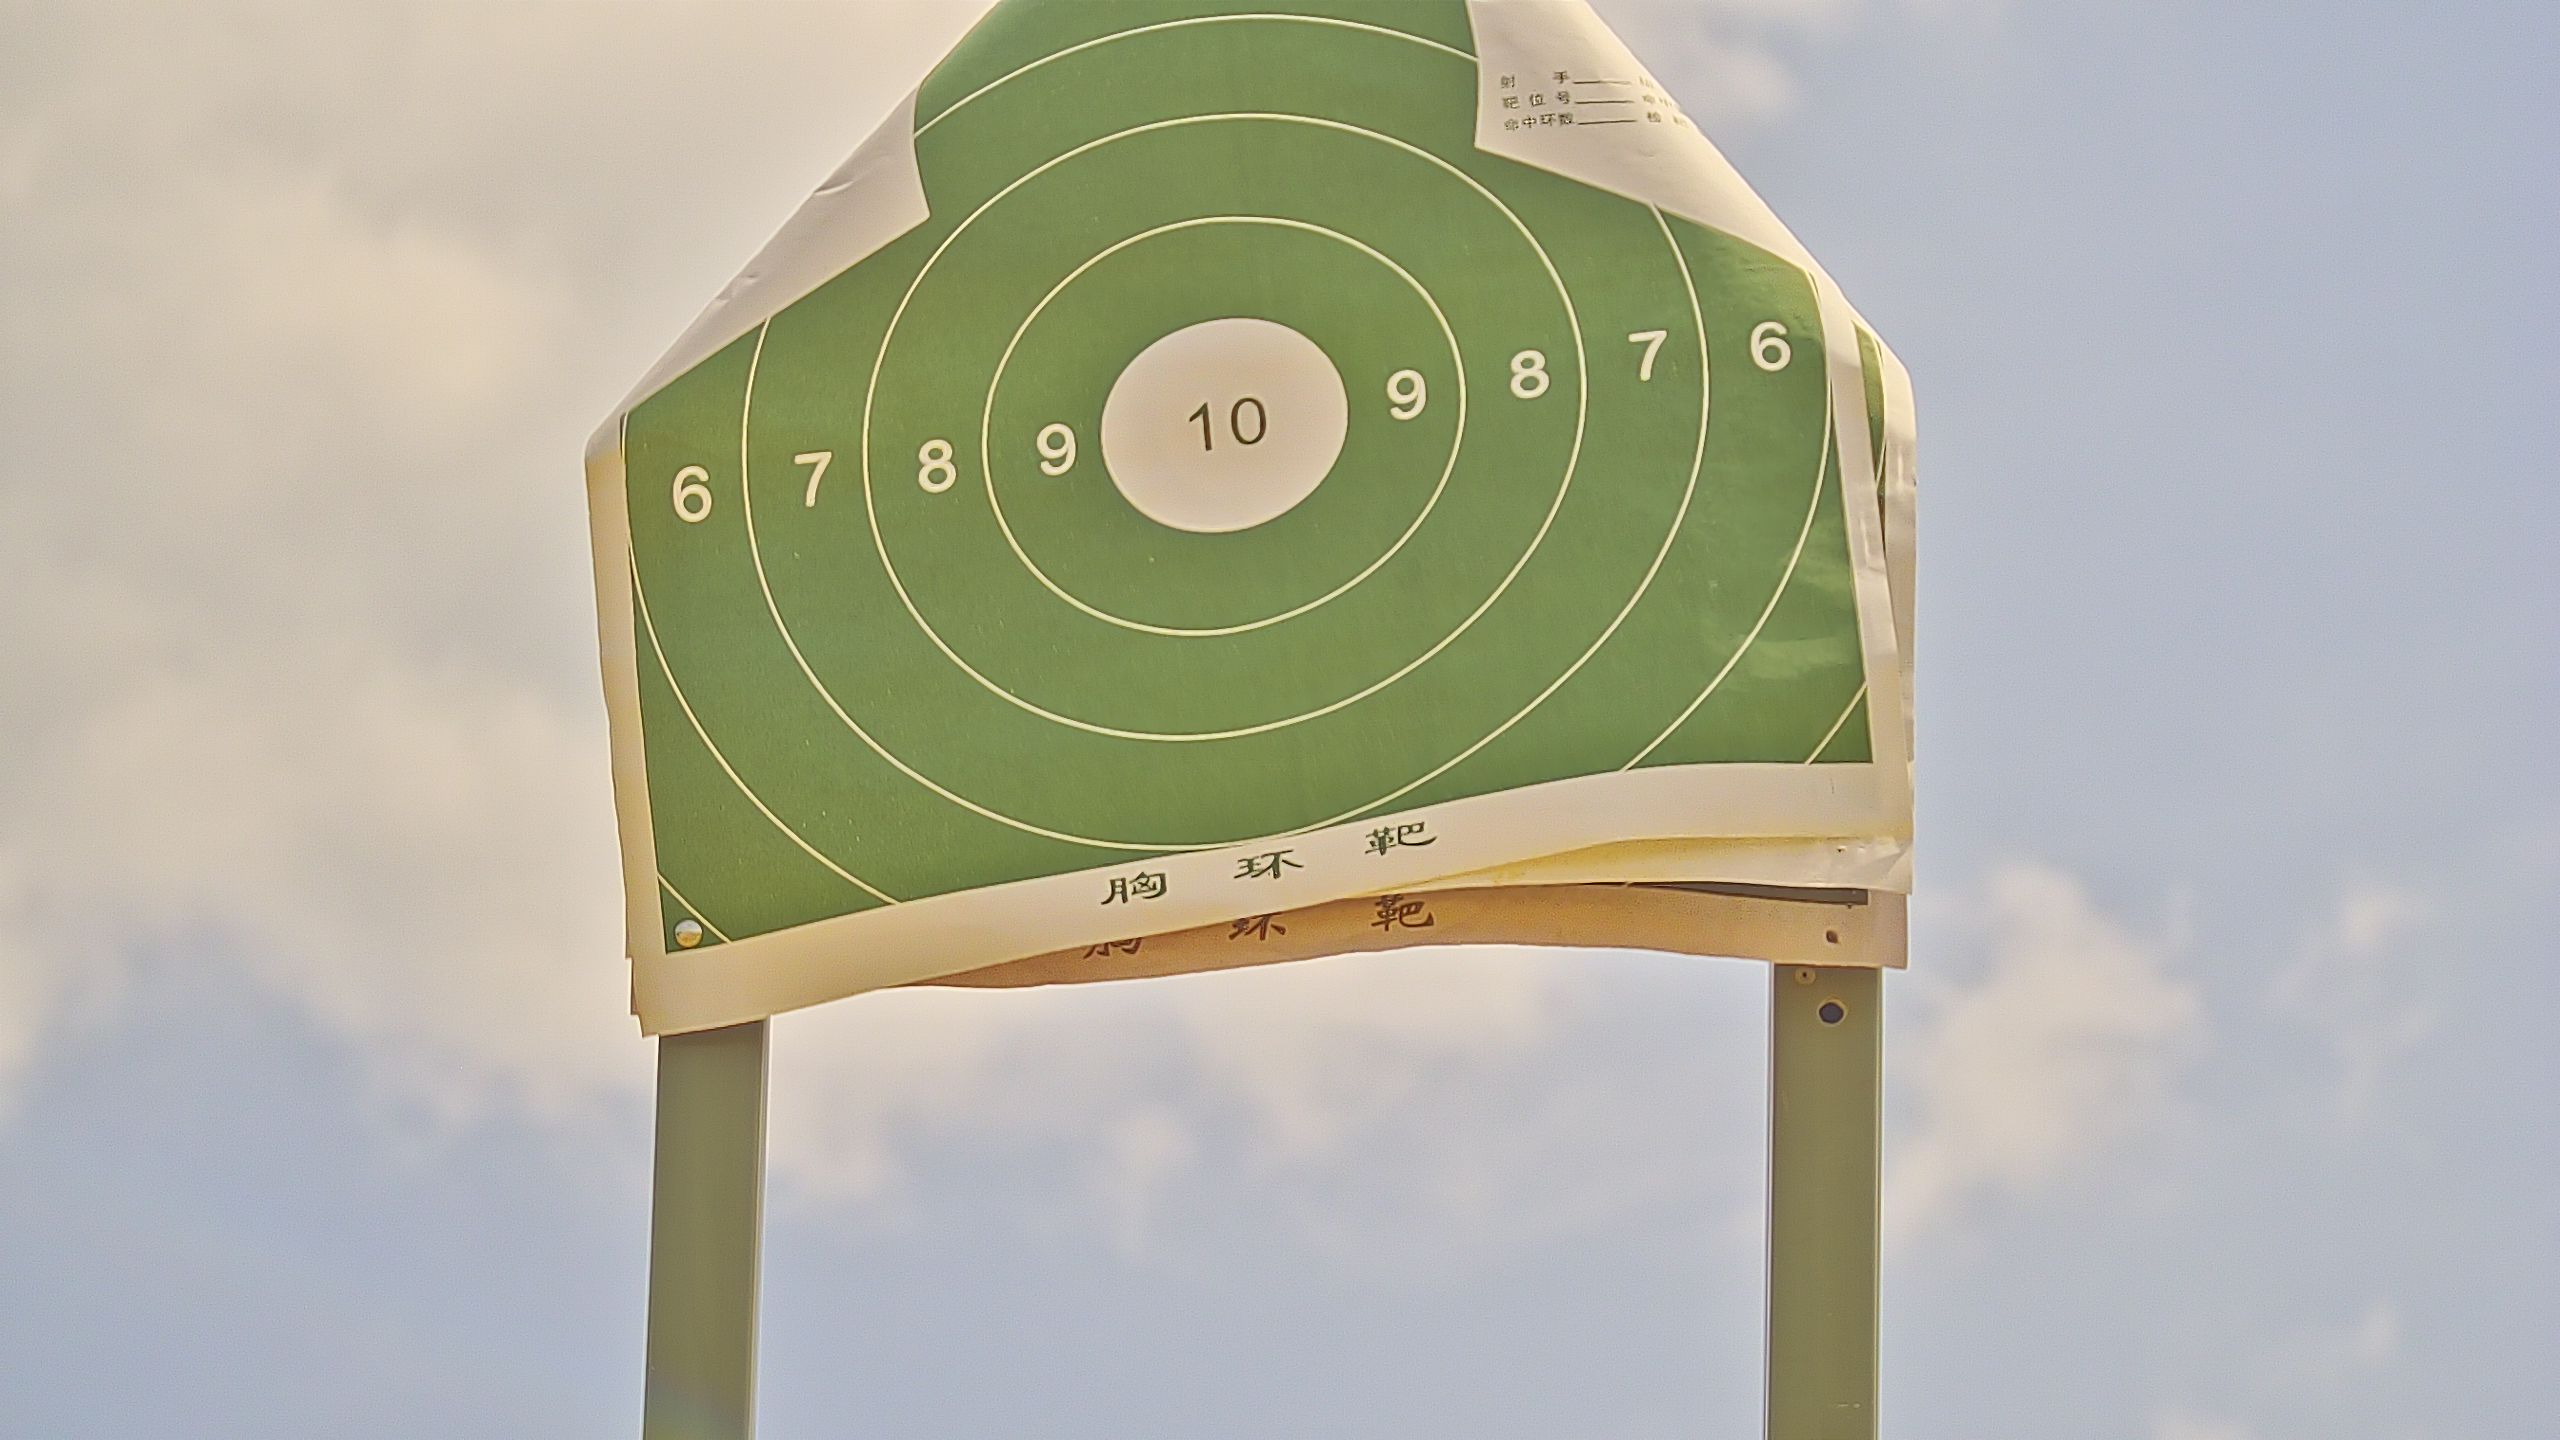kernel: (1220, 424, 1225, 427)
target: (617, 2, 1881, 944)
ten: (1102, 316, 1349, 531)
